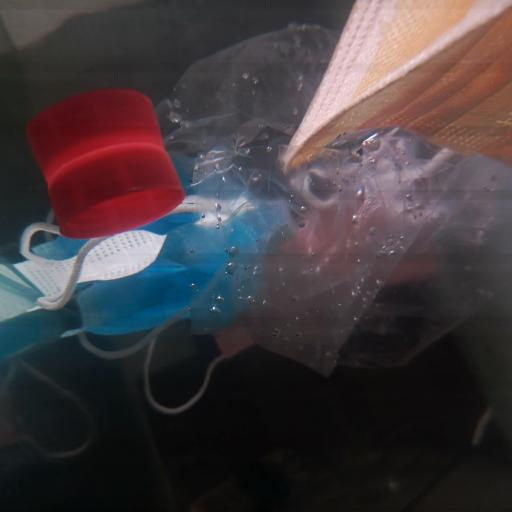bottle_cap: (45, 142, 185, 236)
mask: (273, 0, 512, 182), (16, 205, 258, 349)
plastic_bag: (158, 23, 509, 373)
